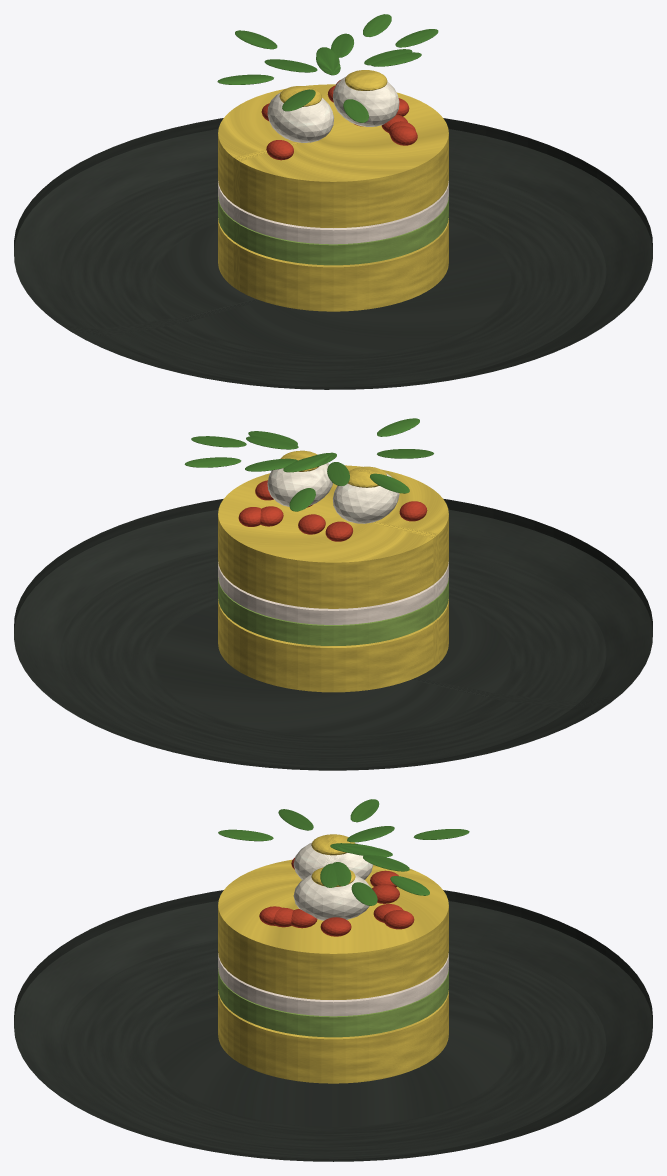
File: signature.glb
3 views of the same model, one above another, from view 1: azimuth 30°, elevation 25°; view 2: azimuth 150°, elevation 25°; view 3: azimuth 270°, elevation 25° (orthographic).
Parts seen in each view (by area): view 1: dark, yellow, avocado, leaf, rice, fish, tomato; view 2: dark, yellow, avocado, leaf, fish, rice, tomato; view 3: dark, yellow, avocado, leaf, fish, rice, tomato.
Boxes of the visible parts, left/top/right/bottom form: dark: left=14, top=118, right=652, bottom=389; yellow: left=218, top=70, right=448, bottom=311; avocado: left=218, top=196, right=448, bottom=265; leaf: left=217, top=14, right=438, bottom=122; rice: left=267, top=76, right=399, bottom=142; fish: left=218, top=181, right=448, bottom=244; tomato: left=261, top=80, right=417, bottom=160; dark: left=14, top=499, right=652, bottom=770; yellow: left=218, top=450, right=448, bottom=692; avocado: left=218, top=577, right=448, bottom=645; leaf: left=184, top=418, right=433, bottom=511; fish: left=218, top=562, right=448, bottom=624; rice: left=267, top=463, right=399, bottom=523; tomato: left=238, top=480, right=427, bottom=541; dark: left=14, top=890, right=652, bottom=1161; yellow: left=218, top=834, right=448, bottom=1083; avocado: left=218, top=968, right=448, bottom=1037; leaf: left=218, top=799, right=469, bottom=905; fish: left=218, top=953, right=448, bottom=1016; rice: left=293, top=842, right=372, bottom=920; tomato: left=259, top=857, right=414, bottom=936.
Bounding box in the file's own units: 2.88 × 1.03 × 2.88.
7 materials, 7 textured.
